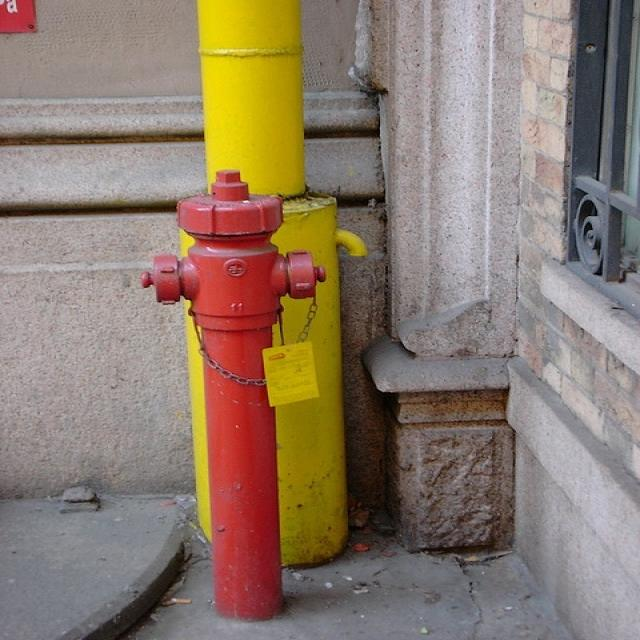fire_hydrant: (122, 143, 467, 638)
